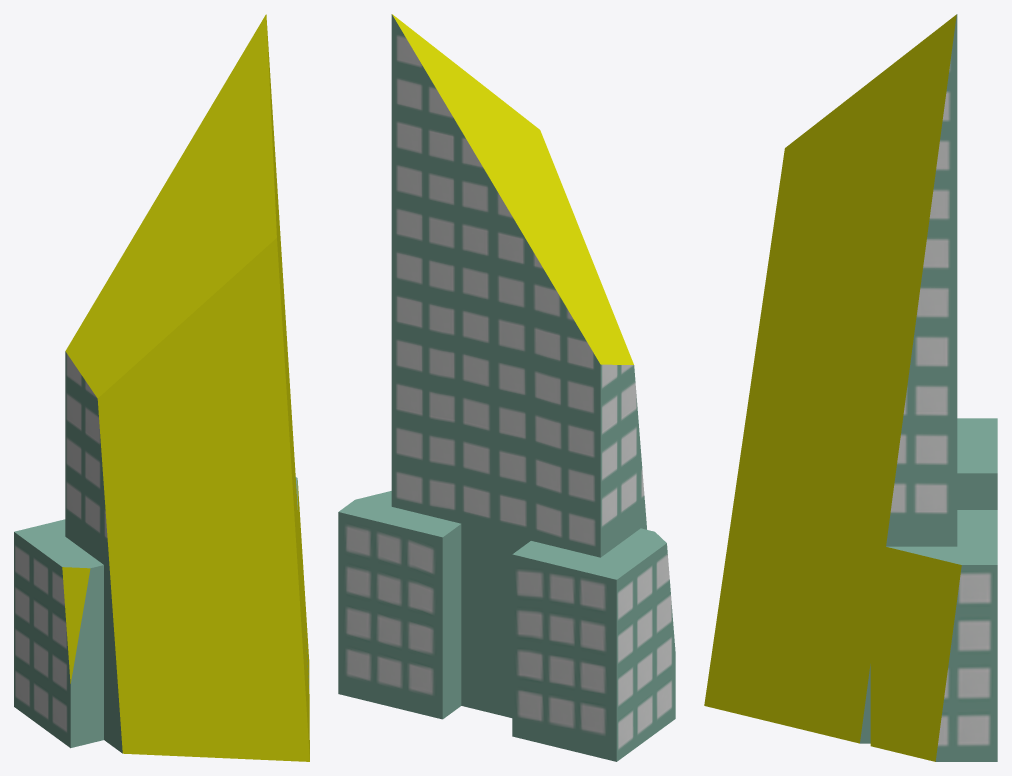
File: esShard2.fbx
The picture shows the model from 3 angles, left to right: view 1: azimuth 30°, elevation 25°; view 2: azimuth 150°, elevation 25°; view 3: azimuth 270°, elevation 25°; orthographic projection. The views are drawn at different scales.
Visible parts, largest first — view 1: shard65; view 2: shard65; view 3: shard65.
Boxes of the visible parts, x1,y1,x2,y2 form: shard65: (14,14,309,761); shard65: (338,14,675,761); shard65: (704,14,997,761).
Bounding box in the file's own units: 0.1295 × 0.2999 × 0.1094.
Materials: 2 (1 with a texture image).
